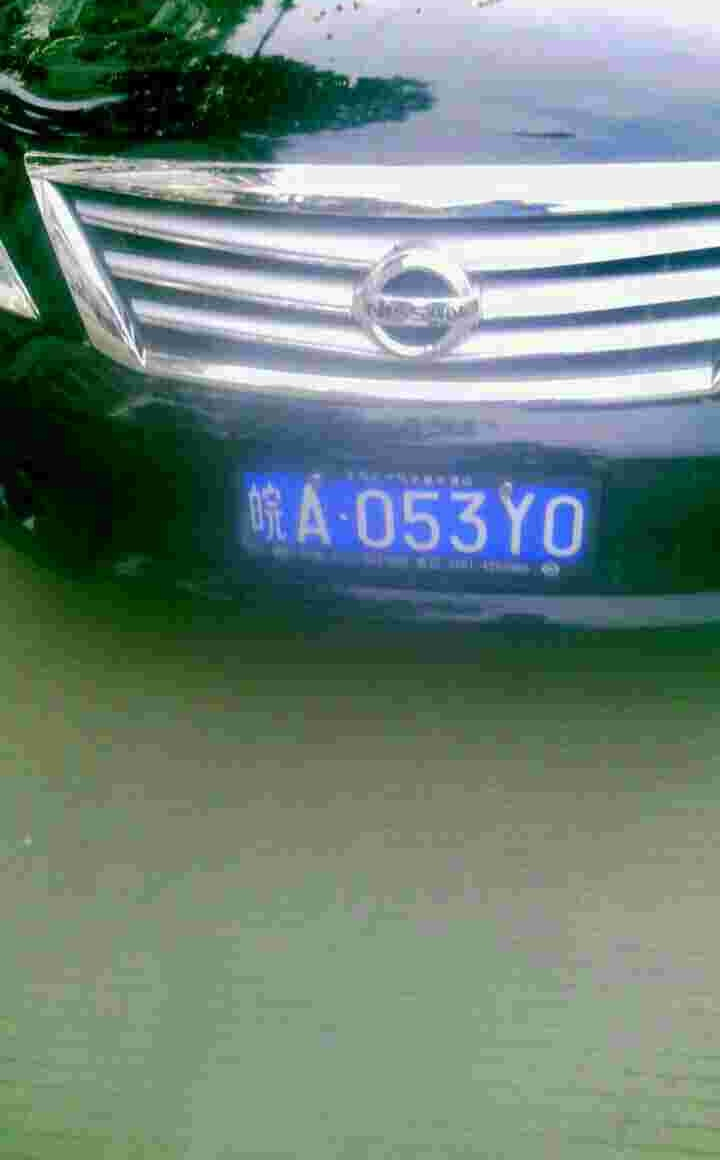license_plate: (243, 470, 600, 561)
